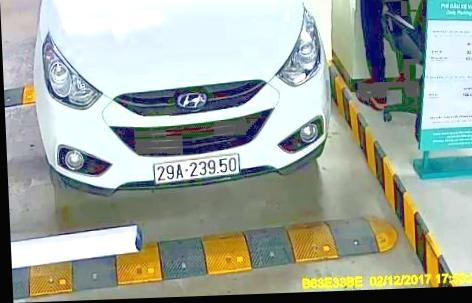License_Plate: (150, 155, 244, 184)
